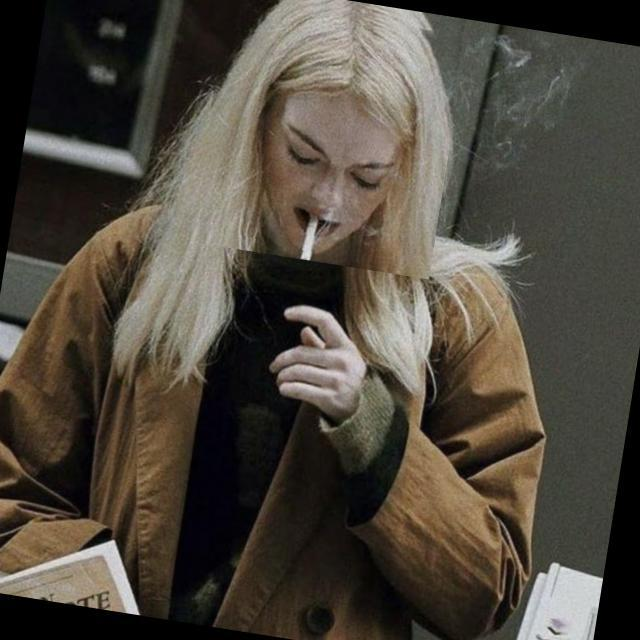cigarette: (279, 192, 336, 274)
